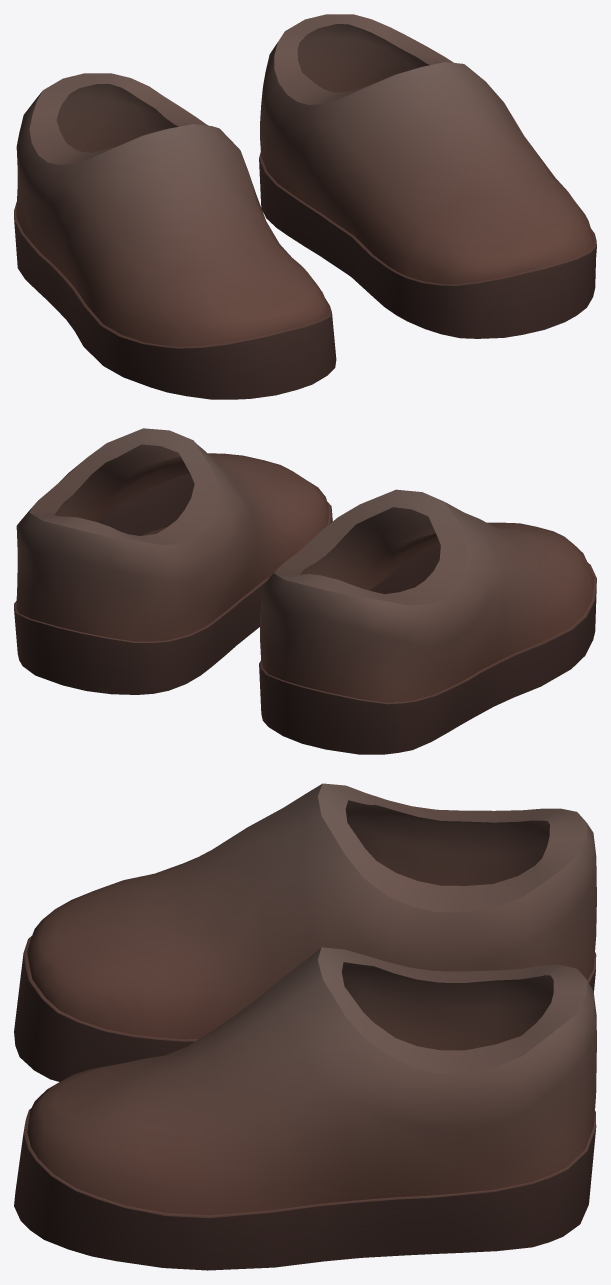
The model's file is Shoe_Sneakers_03.glb.
3 views of the same model, one above another, from view 1: azimuth 30°, elevation 25°; view 2: azimuth 150°, elevation 25°; view 3: azimuth 270°, elevation 25° (orthographic). The views are drawn at different scales.
Visible parts, largest first — view 1: Shoe_Sneakers_03; view 2: Shoe_Sneakers_03; view 3: Shoe_Sneakers_03.
Boxes of the visible parts, bbox=[...] form: Shoe_Sneakers_03: bbox=[14, 14, 596, 399]; Shoe_Sneakers_03: bbox=[14, 428, 596, 754]; Shoe_Sneakers_03: bbox=[14, 783, 596, 1270].
Size of the model in its own units: 0.2539 by 0.0943 by 0.2044.
Materials: 1 (1 with a texture image).
